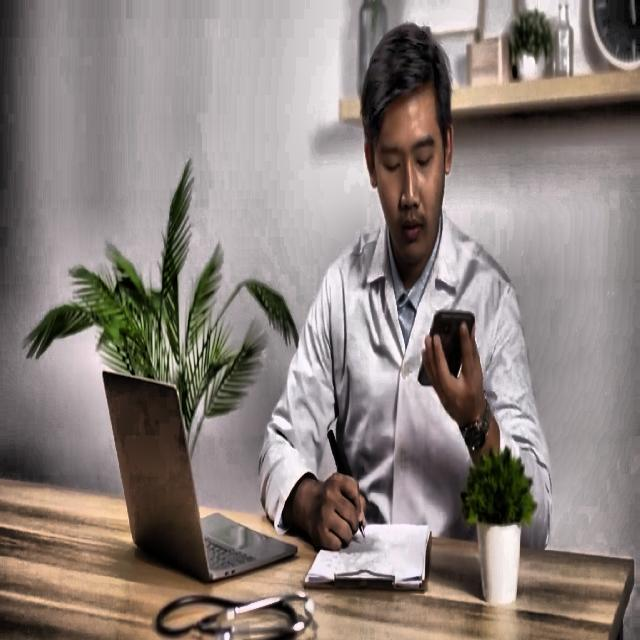Phone: (418, 308, 474, 388)
